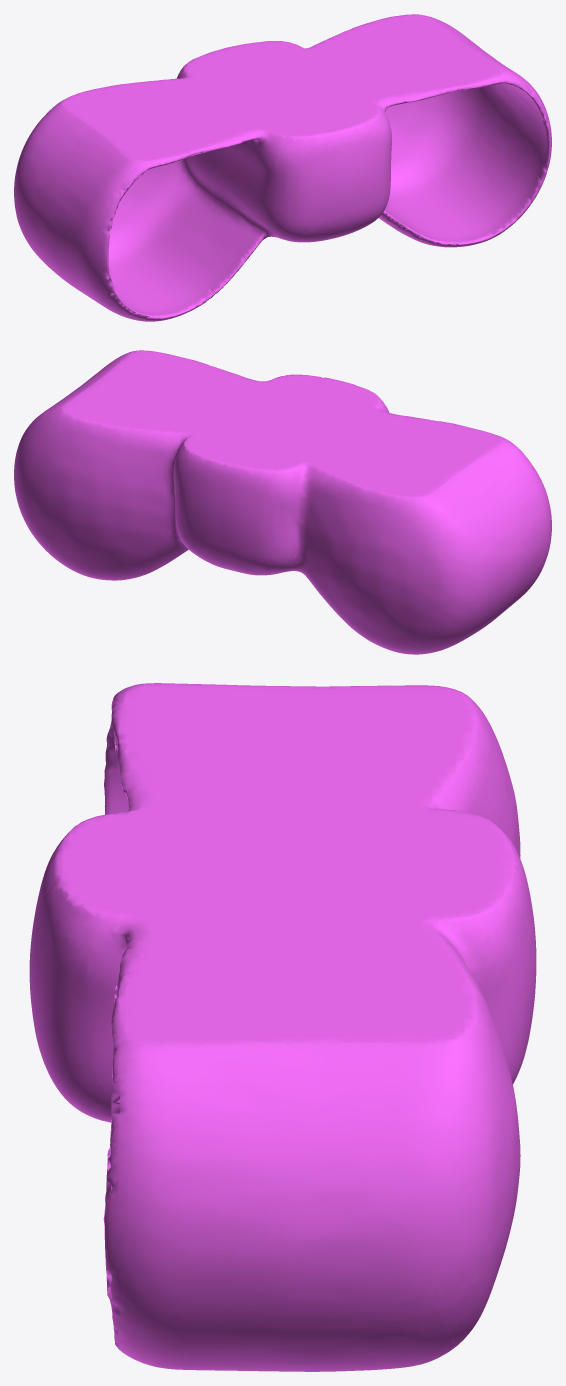
The model's file is cute-wob.glb.
3 renders of one model, top to bottom at view 1: azimuth 30°, elevation 25°; view 2: azimuth 150°, elevation 25°; view 3: azimuth 270°, elevation 25°, orthographic. The views are drawn at different scales.
Parts seen in each view (by area): view 1: CuteWobBench; view 2: CuteWobBench; view 3: CuteWobBench.
Boxes of the visible parts, bbox=[...] form: CuteWobBench: bbox=[14, 14, 551, 321]; CuteWobBench: bbox=[14, 350, 551, 654]; CuteWobBench: bbox=[29, 683, 536, 1371].
Size of the model in its own units: 1.1 by 0.3772 by 0.5091.
